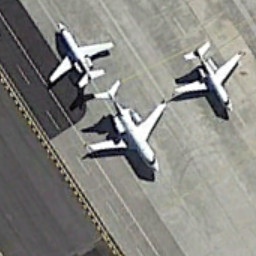Airplane: (74, 79, 173, 185), (168, 37, 251, 127), (32, 16, 115, 92)
